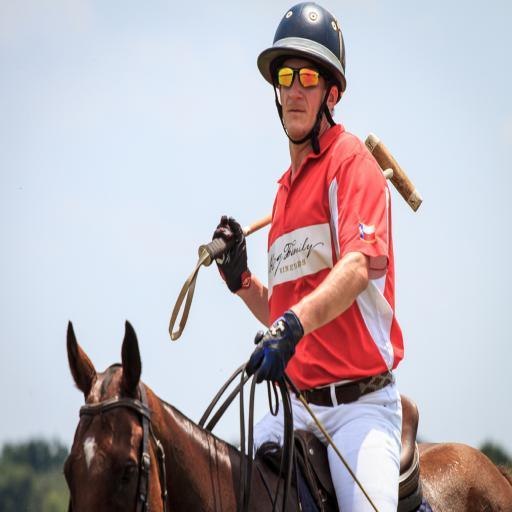horse: (60, 316, 512, 512), (60, 317, 512, 512)
